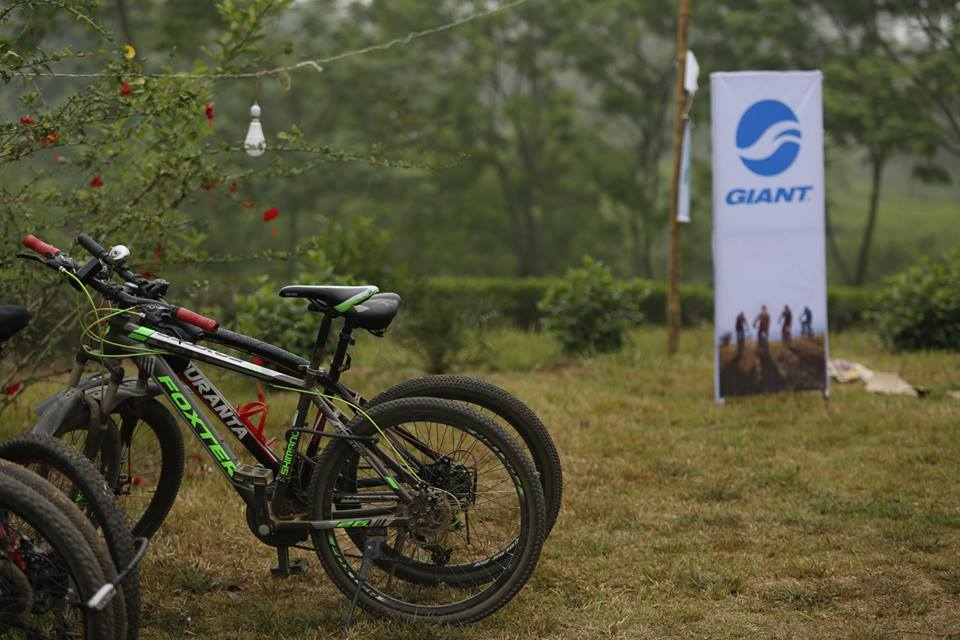bicycle: (39, 223, 557, 607)
